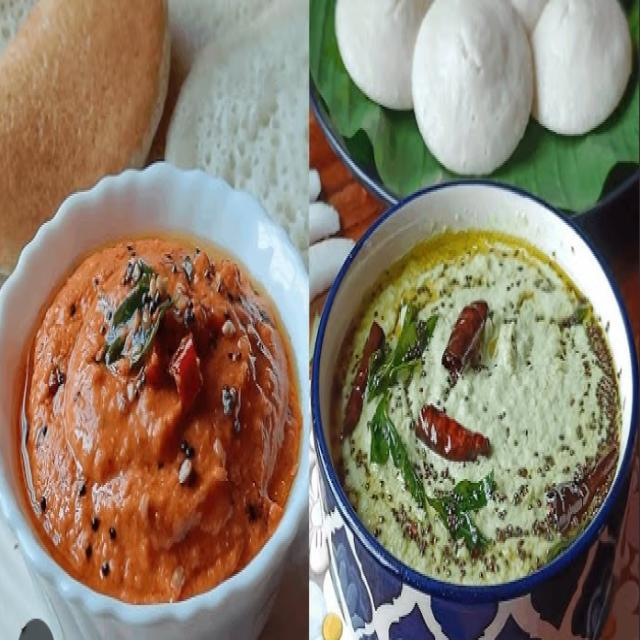coconut chutney: (331, 177, 629, 599)
